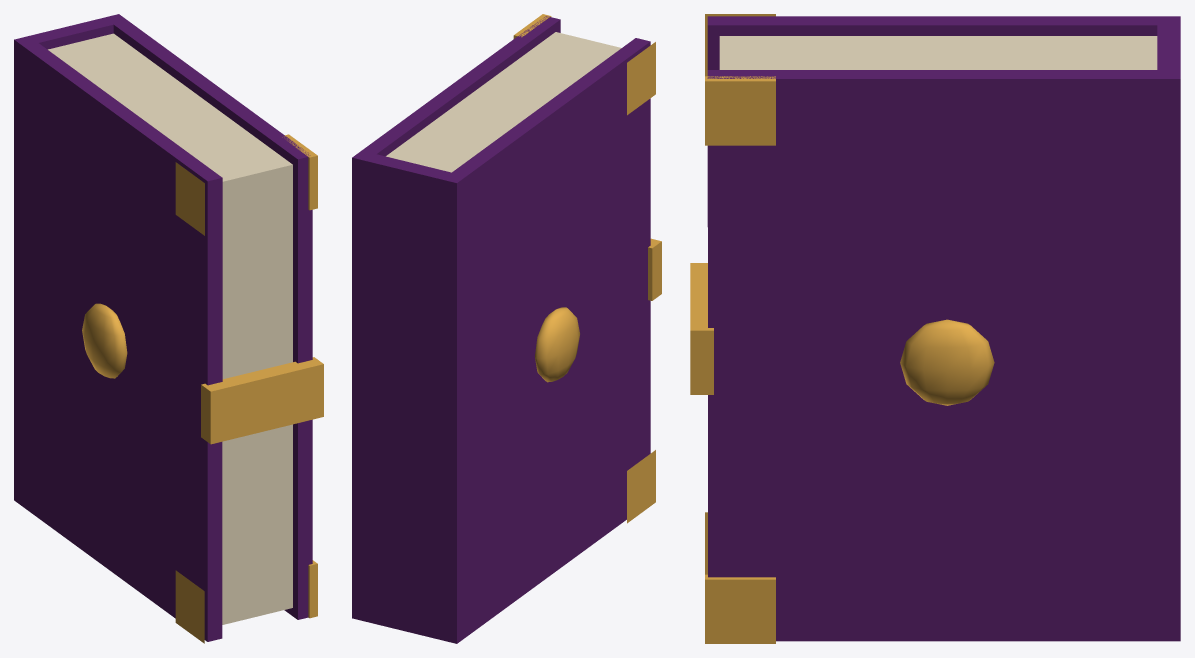
Rendered from spellbook.glb.
3 renders of one model, left to right at view 1: azimuth 30°, elevation 25°; view 2: azimuth 150°, elevation 25°; view 3: azimuth 270°, elevation 25°, orthographic. The views are drawn at different scales.
Visible parts, largest first — view 1: spellbook; view 2: spellbook; view 3: spellbook.
Boxes of the visible parts, bbox=[...] form: spellbook: bbox=[14, 14, 323, 643]; spellbook: bbox=[352, 14, 661, 643]; spellbook: bbox=[690, 14, 1180, 643].
Bounding box in the file's own units: 0.0666 × 0.2101 × 0.166.
